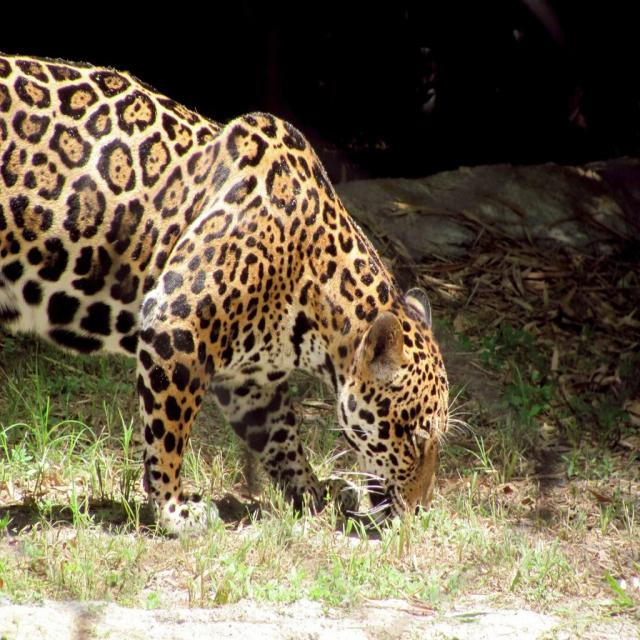Cheetah: (0, 52, 477, 538)
